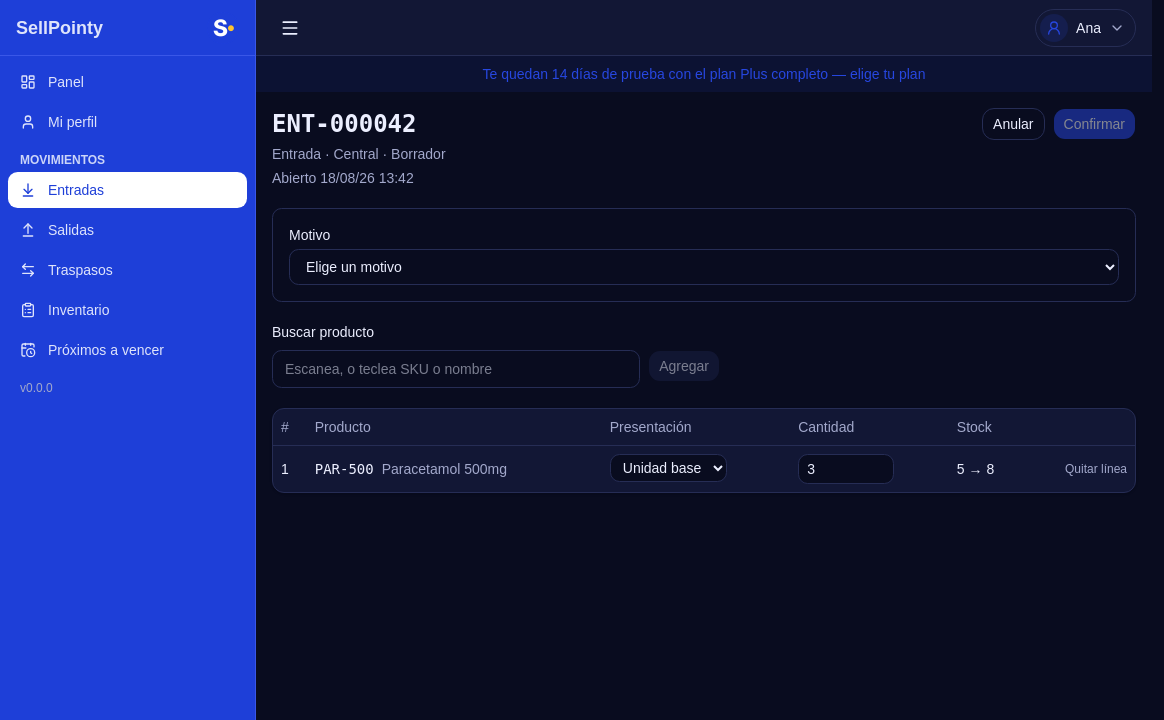
Test: La cara de entrada del documento (F3-ENTRY-02) › el motivo manda › elegir factura muestra Referencia y la columna de costo, y oculta Autoriza
The image size is (1164, 720).
Select "Factura de compra" in the dropdown labelled "Motivo" at (704, 267), box [289,249,1119,285]
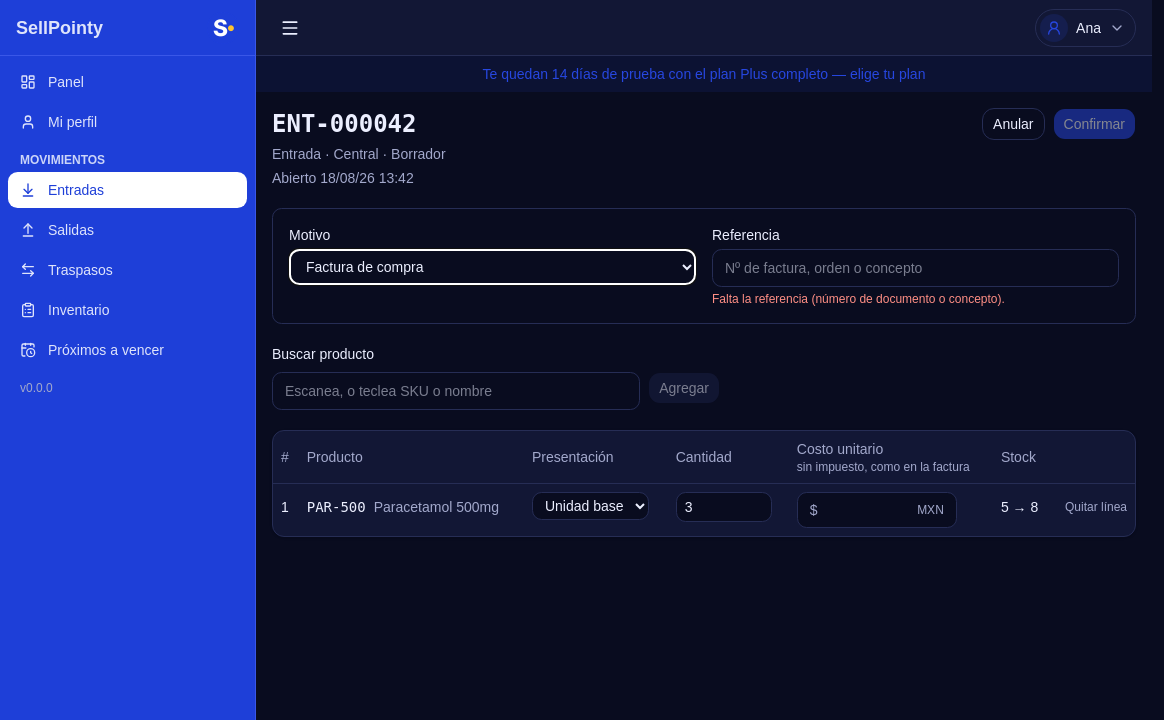
Expected: the field labelled "Referencia" is shown, [712,249,1119,287]
Expected: the column heading "Costo unitario sin impuesto, como en la factura" is shown, [789,431,993,484]
